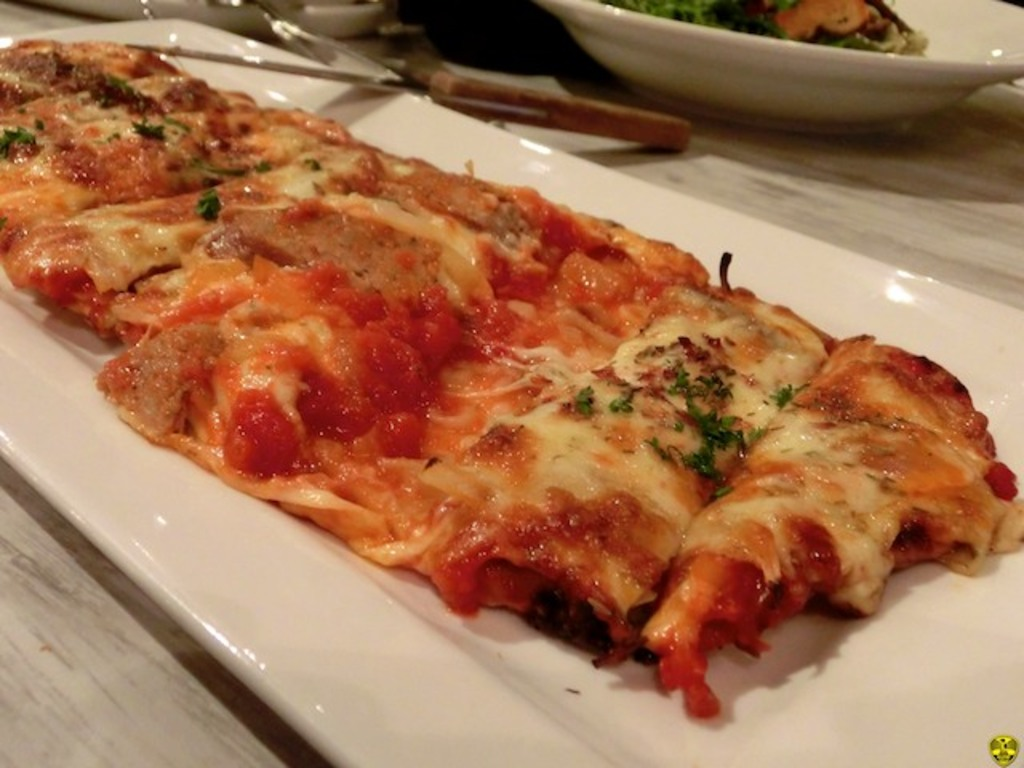Pizza: (0, 28, 1022, 721)
